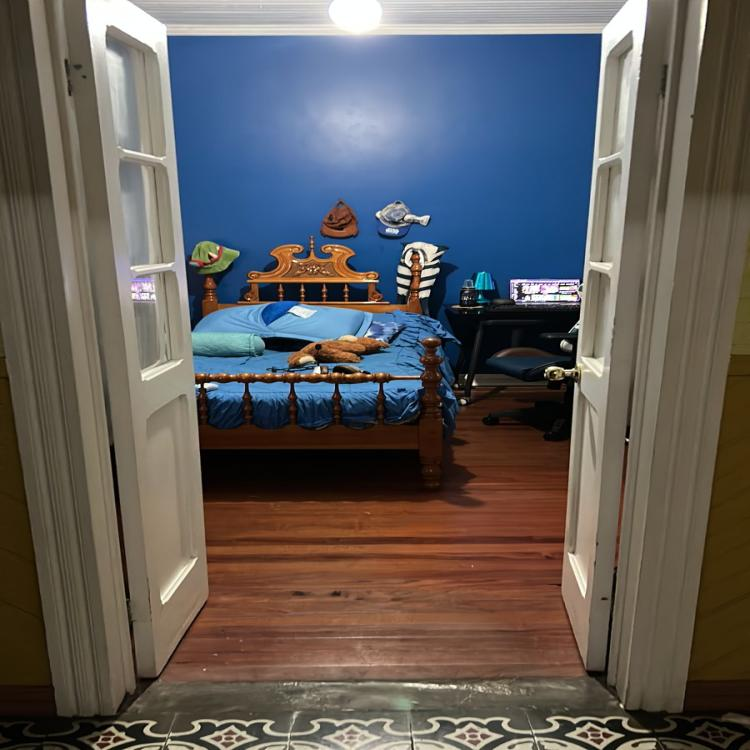OpenDoor: (113, 15, 677, 729)
